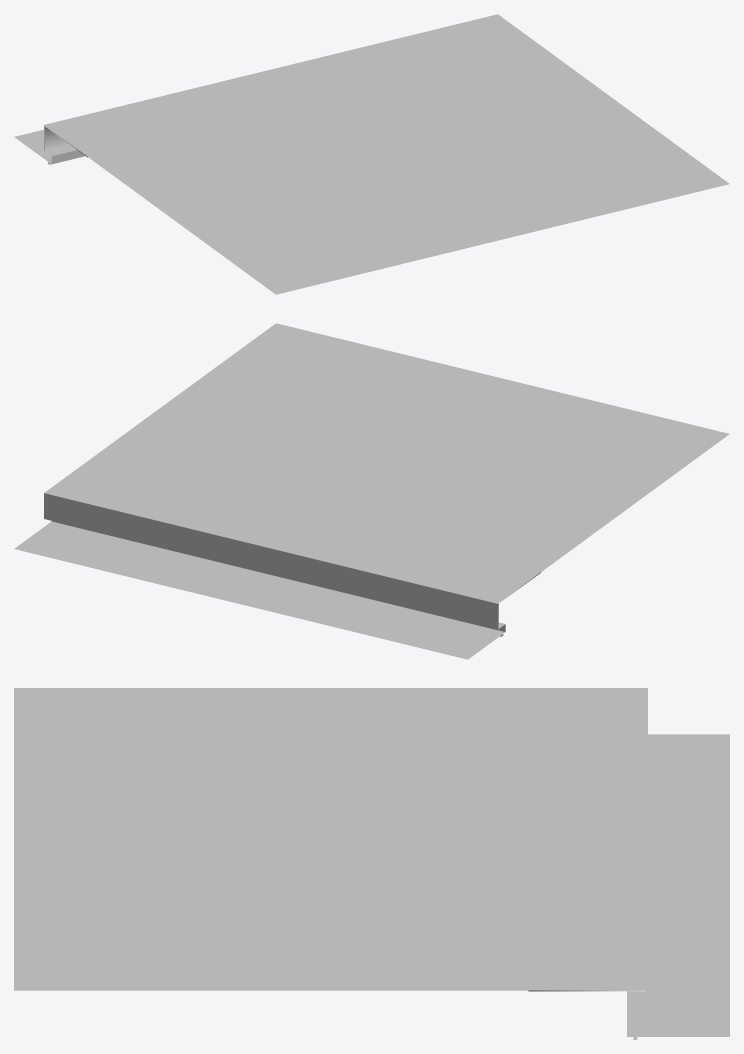
File: Ceiling02_4_350x350cm.FBX
The picture shows the model from 3 angles, top to bottom: view 1: azimuth 30°, elevation 25°; view 2: azimuth 150°, elevation 25°; view 3: azimuth 270°, elevation 25°; orthographic projection. The views are drawn at different scales.
Visible parts, largest first — view 1: Ceiling; view 2: Ceiling; view 3: Ceiling.
Boxes of the visible parts, x1,y1,x2,y2 form: Ceiling: [14, 14, 729, 294]; Ceiling: [14, 323, 729, 659]; Ceiling: [14, 688, 729, 1036].
Bounding box in the file's own units: 350 × 26.5 × 350.
